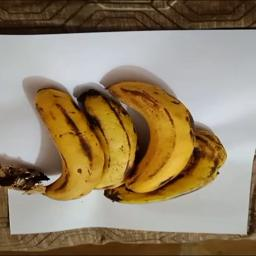Banana Semifresh: (3, 77, 233, 213)
